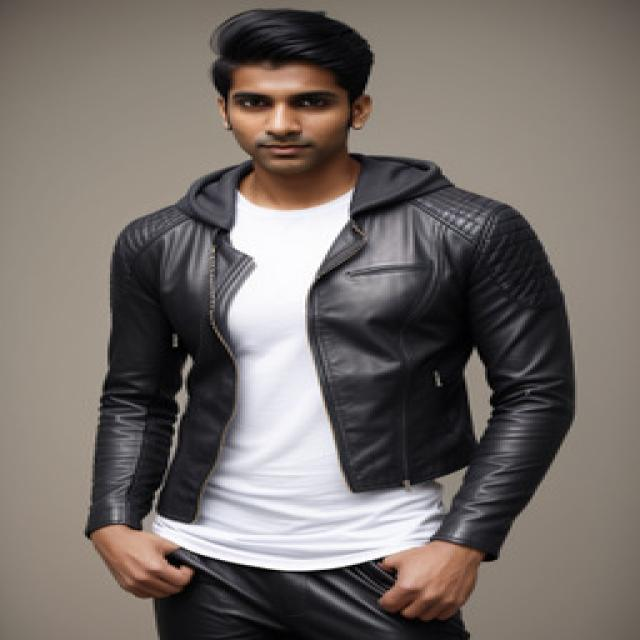Ai human 2: (62, 0, 583, 639)
